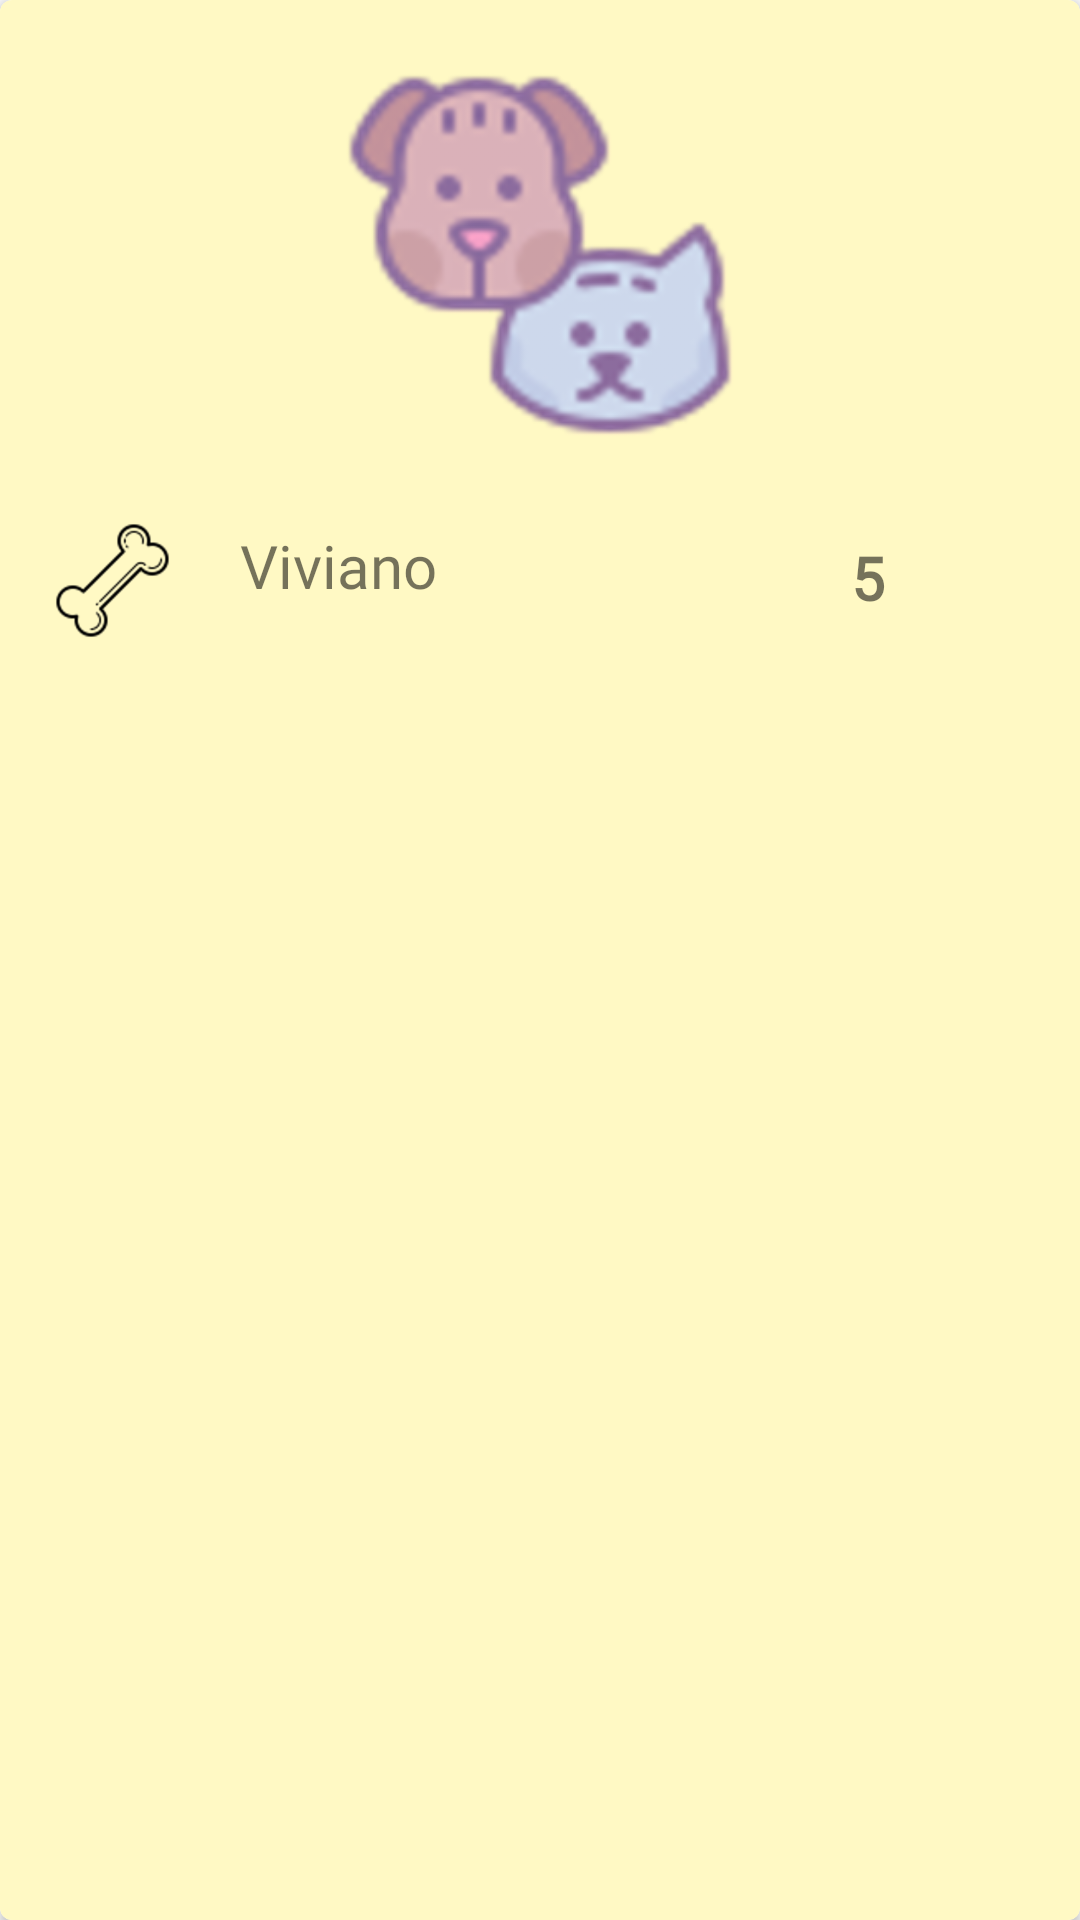

Where icons sit on this 1080px x 1920px app screen, as (x1, y1, x2, y2):
bone like: (56, 524, 169, 637)
